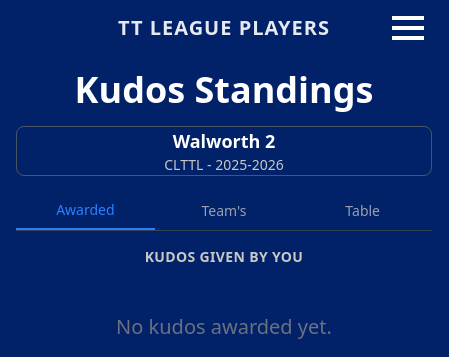
Scenario: KudosStandings info modal › shows a load error for the Table tab
This screenshot has width=449, height=357.
Check: the text "No kudos awarded yet." is shown, box [116,313,332,340]
Click the button "Table": point(363, 211) [293,192,432,230]
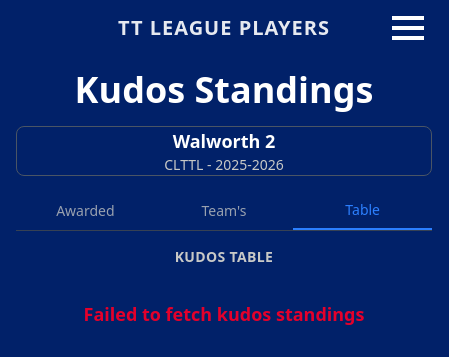
Check: the text "Failed to fetch kudos standings" is shown, box [84,302,364,326]
